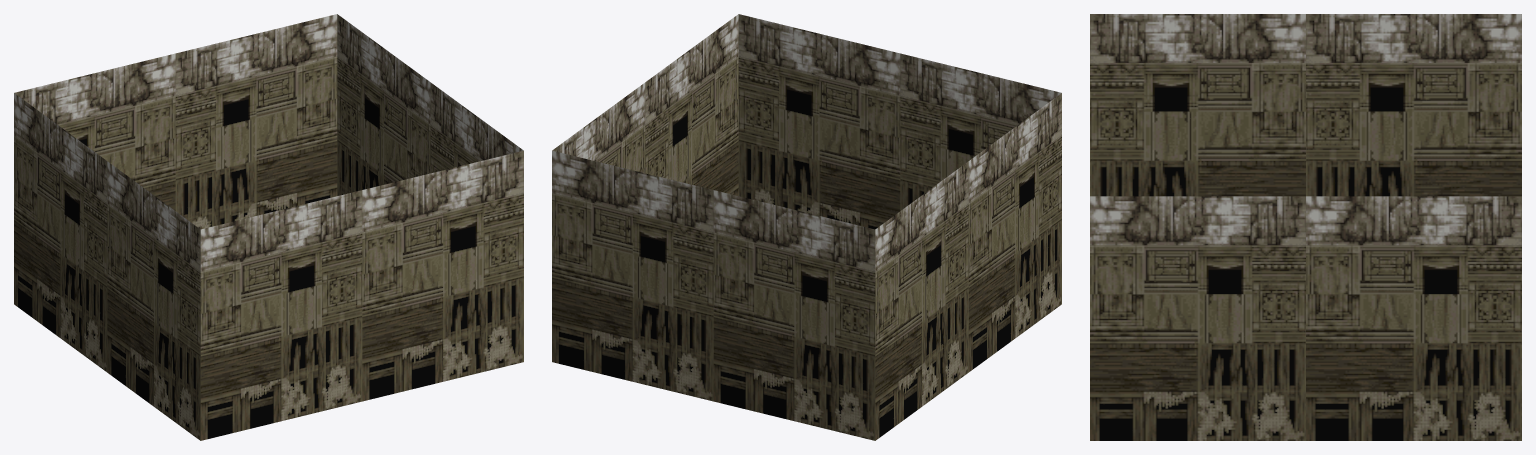
Rendered from MAP056.obj.
3 renders of one model, left to right at view 1: azimuth 30°, elevation 25°; view 2: azimuth 150°, elevation 25°; view 3: azimuth 270°, elevation 25°, orthographic. The views are drawn at different scales.
Parts seen in each view (by area): view 1: mesh_4, mesh_3; view 2: mesh_4, mesh_3; view 3: mesh_4, mesh_3.
Boxes of the visible parts, box(x1,y1,x2,y2) form: mesh_4: box(14, 56, 523, 440); mesh_3: box(14, 14, 523, 271); mesh_4: box(552, 56, 1061, 440); mesh_3: box(552, 14, 1061, 271); mesh_4: box(1090, 63, 1521, 440); mesh_3: box(1090, 14, 1521, 245).
Bounding box in the file's own units: 102 × 64 × 102.
5 materials, 5 textured.
